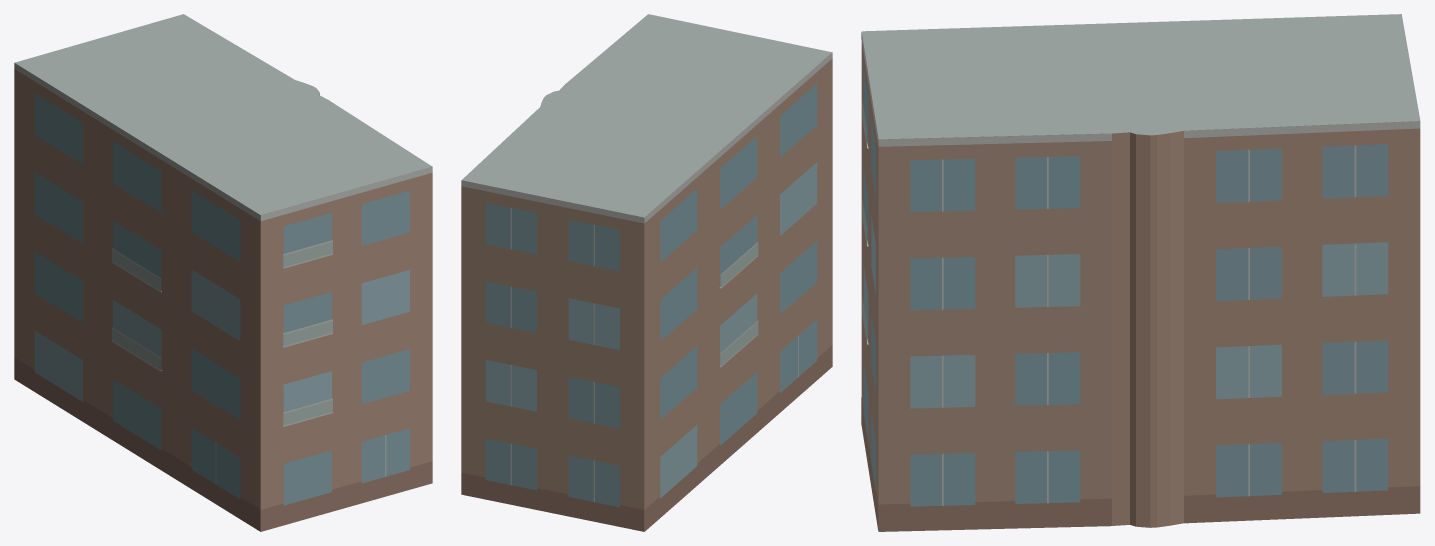
Rendered from survey-upis-33025718.glb.
3 views of the same model, side by side, from view 1: azimuth 30°, elevation 25°; view 2: azimuth 150°, elevation 25°; view 3: azimuth 270°, elevation 25° (orthographic). The views are drawn at different scales.
Parts seen in each view (by area): view 1: survey-upis-33025718.tmp; view 2: survey-upis-33025718.tmp; view 3: survey-upis-33025718.tmp.
Part boxes in pixels (<box>): survey-upis-33025718.tmp: <box>14,14,432,531</box>; survey-upis-33025718.tmp: <box>461,14,832,531</box>; survey-upis-33025718.tmp: <box>861,14,1420,531</box>.
Size of the model in its own units: 8.78 by 12.8 by 16.53.
